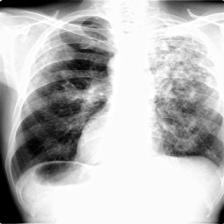tuberculosis: (5, 9, 223, 223)
